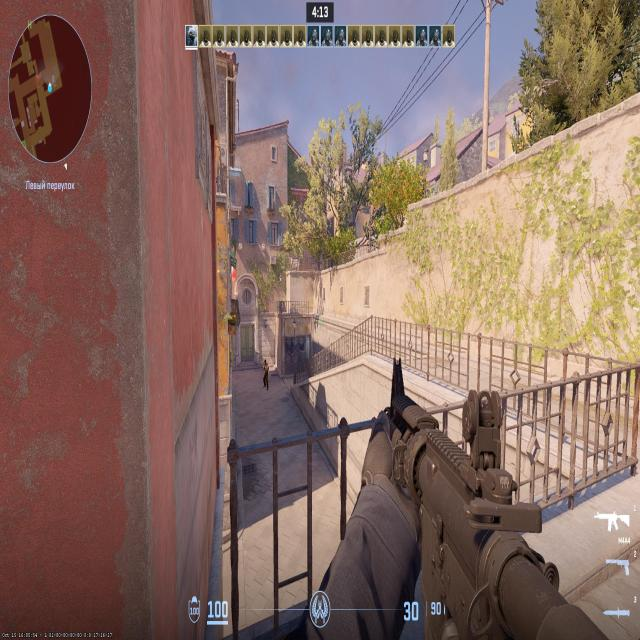T: (264, 361, 268, 388)
T_heat: (264, 360, 266, 367)
